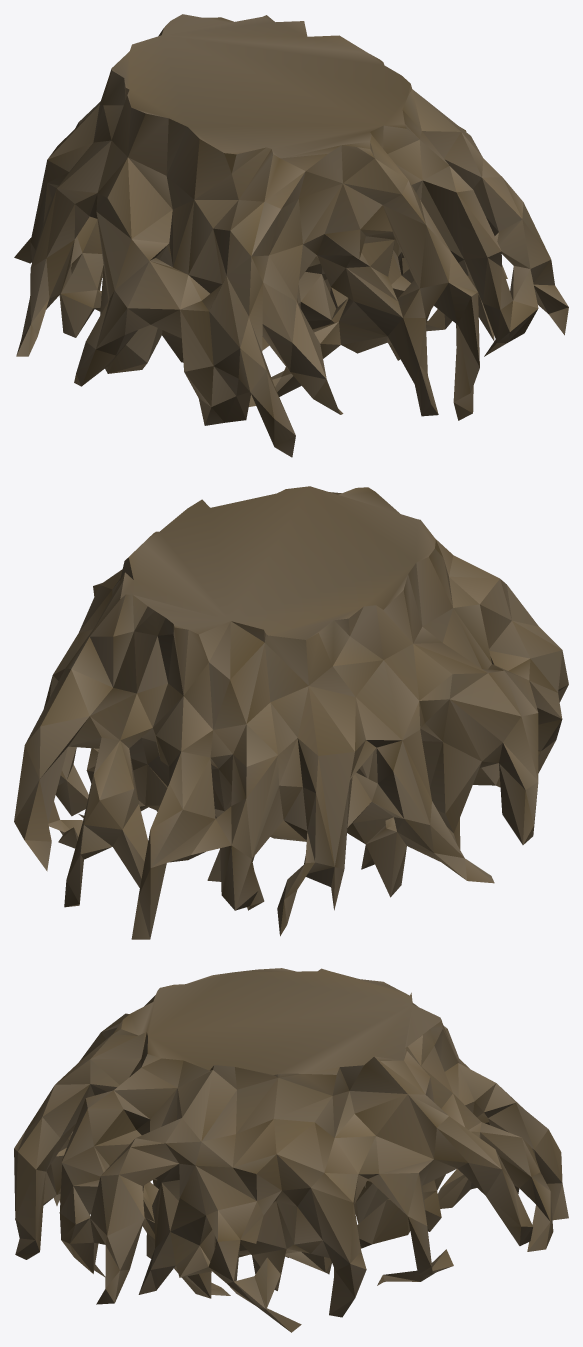
Rendered from mangrove_stump.glb.
3 renders of one model, top to bottom at view 1: azimuth 30°, elevation 25°; view 2: azimuth 150°, elevation 25°; view 3: azimuth 270°, elevation 25°, orthographic. The views are drawn at different scales.
Visible parts, largest first — view 1: Stump; view 2: Stump; view 3: Stump.
Part boxes in pixels (x1=…): Stump: x1=14, y1=14, x2=568, y2=457; Stump: x1=14, y1=486, x2=568, y2=939; Stump: x1=14, y1=968, x2=568, y2=1332.
Bounding box in the file's own units: 1.6 × 0.8936 × 1.93.
